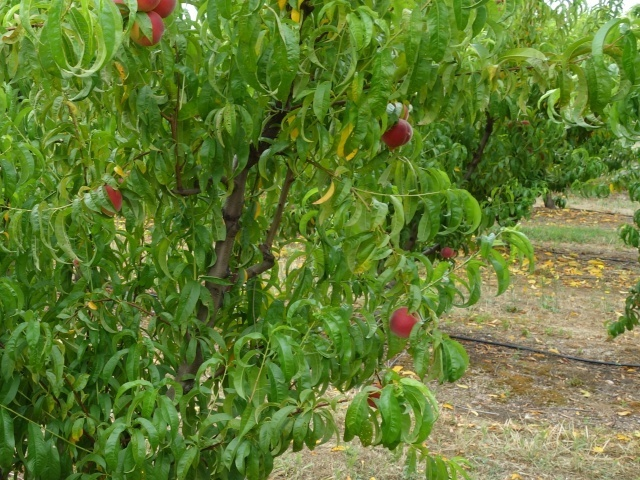peach: (128, 6, 168, 49), (379, 113, 416, 155), (97, 173, 128, 220), (388, 302, 424, 340), (124, 1, 166, 16), (438, 242, 457, 262)
